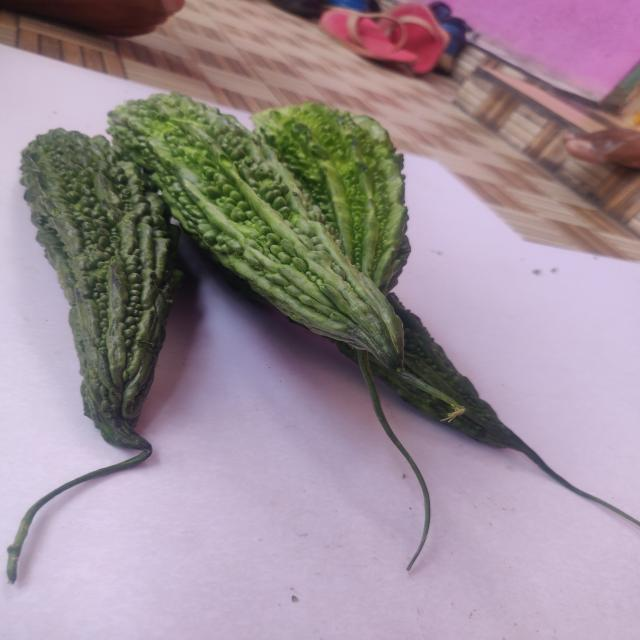Bitter Gourd: (108, 94, 410, 375), (6, 128, 180, 583), (252, 102, 410, 295)
